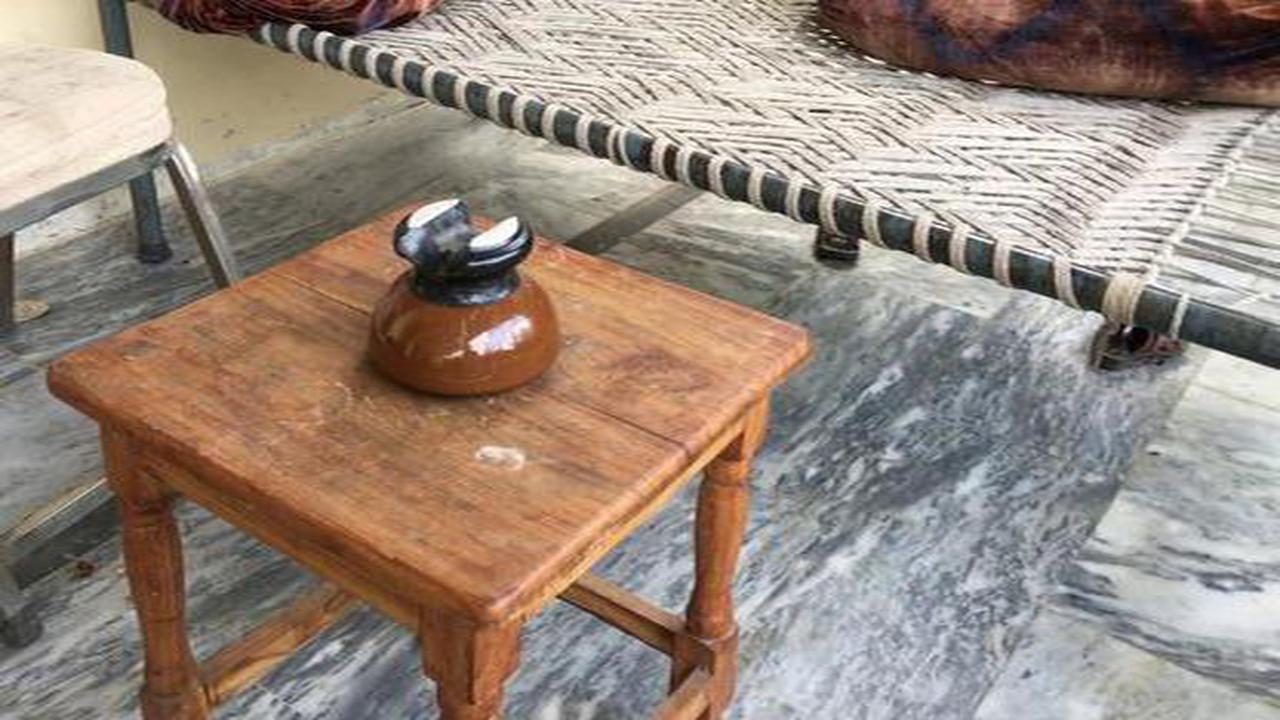insulator_pin: (354, 186, 582, 416)
